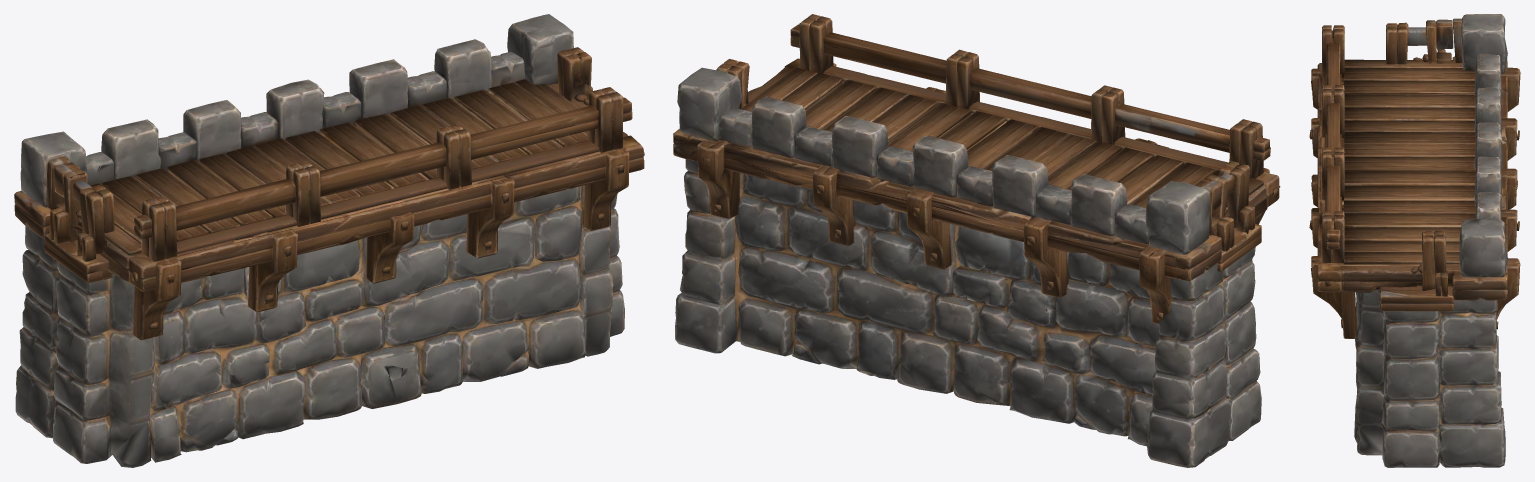
Rendered from shelter_t2_wall.glb.
The picture shows the model from 3 angles, left to right: view 1: azimuth 30°, elevation 25°; view 2: azimuth 150°, elevation 25°; view 3: azimuth 270°, elevation 25°; orthographic projection. The views are drawn at different scales.
Bounding box in the file's own units: 0.9482 × 0.456 × 0.3736.
1 material, 1 textured.
